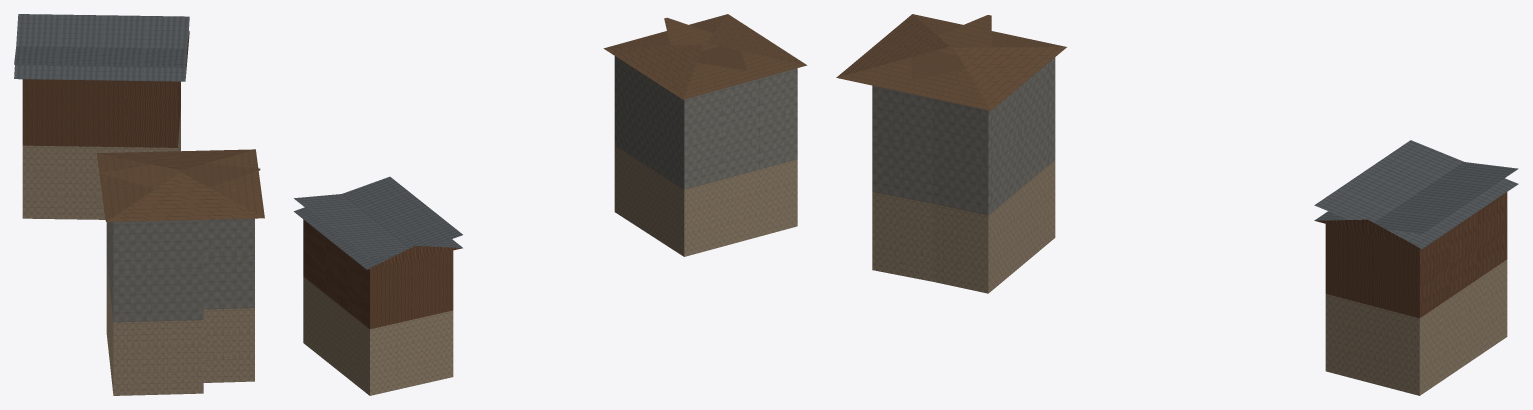
File: bld_c31_-37_464.gltf
The picture shows the model from 3 angles, left to right: view 1: azimuth 30°, elevation 25°; view 2: azimuth 150°, elevation 25°; view 3: azimuth 270°, elevation 25°; orthographic projection. The views are drawn at different scales.
Parts seen in each view (by area): view 1: bld_c31_-37_464; view 2: bld_c31_-37_464; view 3: bld_c31_-37_464.
Boxes of the visible parts, bbox=[...] form: bld_c31_-37_464: bbox=[14, 14, 264, 395]; bld_c31_-37_464: bbox=[294, 14, 807, 395]; bld_c31_-37_464: bbox=[836, 14, 1518, 395].
Bounding box in the file's own units: 23.49 × 15.3 × 40.37.
Materials: 6 (6 with a texture image).
